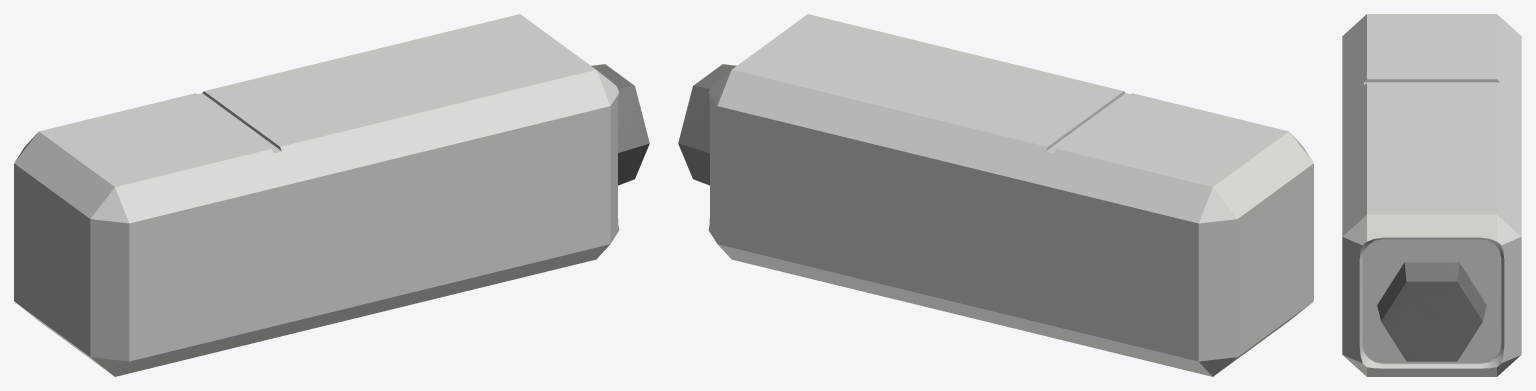
Rendered from ax_gear_12_deployable_boom_s.glb.
The picture shows the model from 3 angles, left to right: view 1: azimuth 30°, elevation 25°; view 2: azimuth 150°, elevation 25°; view 3: azimuth 270°, elevation 25°; orthographic projection. The views are drawn at different scales.
Visible parts, largest first — view 1: boom_canister, boom_tip; view 2: boom_canister, boom_tip; view 3: boom_canister, boom_tip.
Part boxes in pixels (x1,y1,x2,y2): boom_canister: (14, 14, 619, 376); boom_tip: (591, 64, 649, 185); boom_canister: (708, 14, 1313, 376); boom_tip: (678, 64, 736, 185); boom_canister: (1342, 14, 1521, 376); boom_tip: (1377, 262, 1486, 361).
Bounding box in the file's own units: 1.1 × 0.352 × 0.352.
2 materials, 1 textured.
